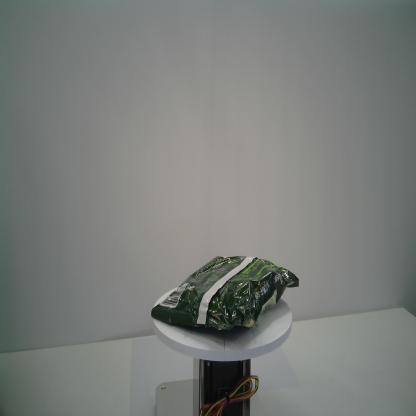Instant Noodles: (149, 254, 300, 338)
